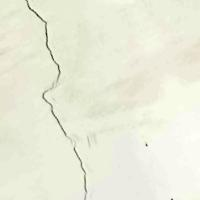crack: (10, 0, 105, 198)
